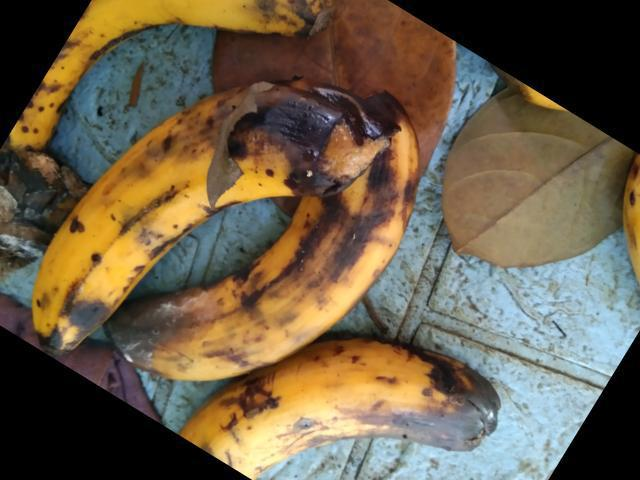rotten: (21, 47, 388, 356), (121, 103, 447, 393), (173, 336, 525, 479)
